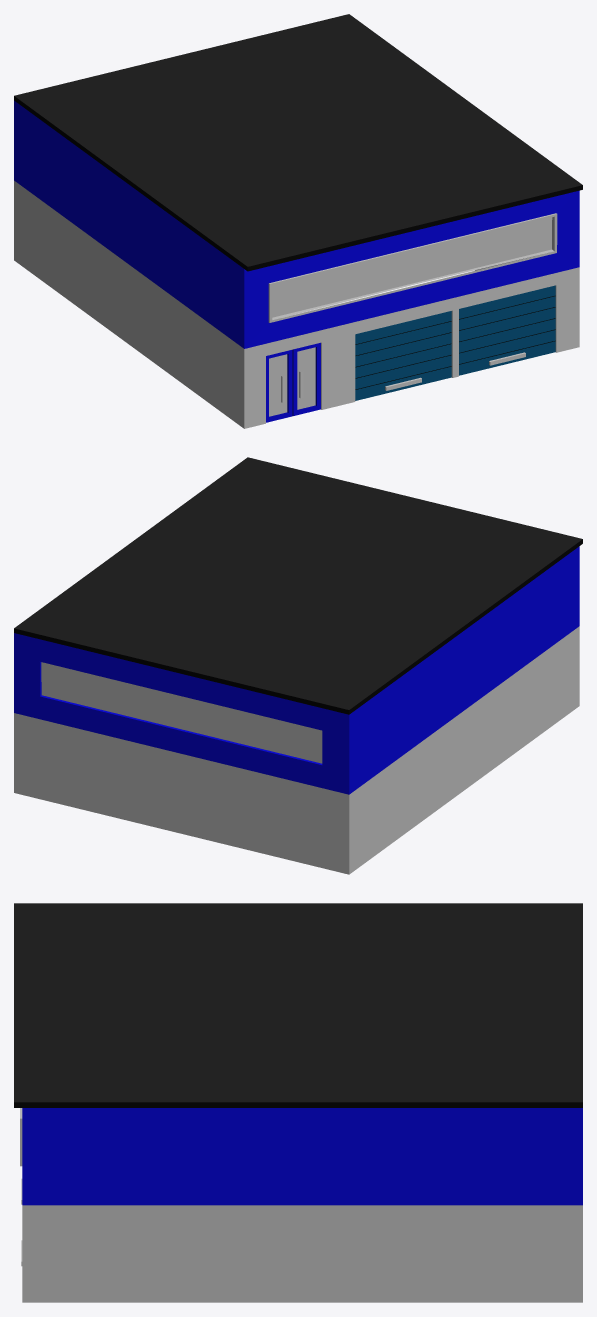
The picture shows the model from 3 angles, top to bottom: view 1: azimuth 30°, elevation 25°; view 2: azimuth 150°, elevation 25°; view 3: azimuth 270°, elevation 25°; orthographic projection. The views are drawn at different scales.
Visible parts, largest first — view 1: BB-026; view 2: BB-026; view 3: BB-026.
Boxes of the visible parts, box(x1,y1,x2,y2) form: BB-026: box(14, 14, 582, 428); BB-026: box(14, 457, 582, 874); BB-026: box(14, 903, 582, 1302).
Size of what is drawn, in the model's own units: 13.16 by 6.17 by 15.9.
